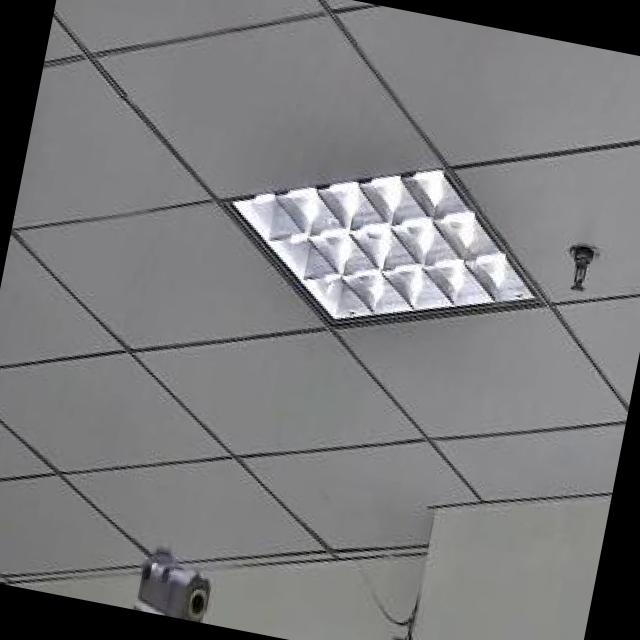Guns: (110, 503, 255, 630)
